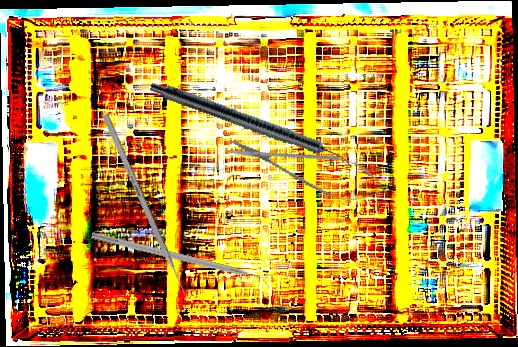Chopper: (88, 231, 273, 294)
Handpiece: (147, 78, 357, 172)
Micro Scissor: (220, 124, 392, 212)
Pusher: (101, 113, 193, 306)
